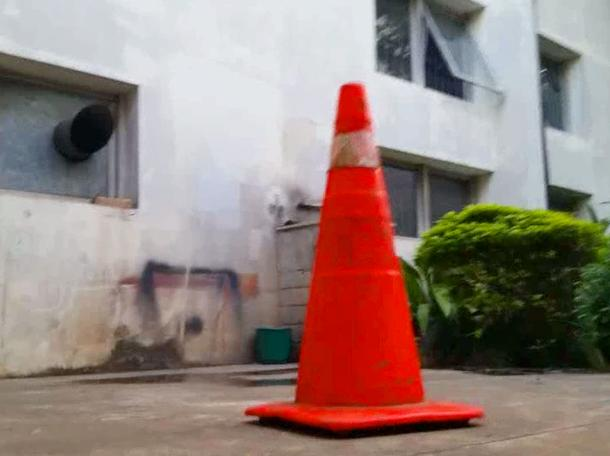0 cone: (244, 83, 483, 428)
